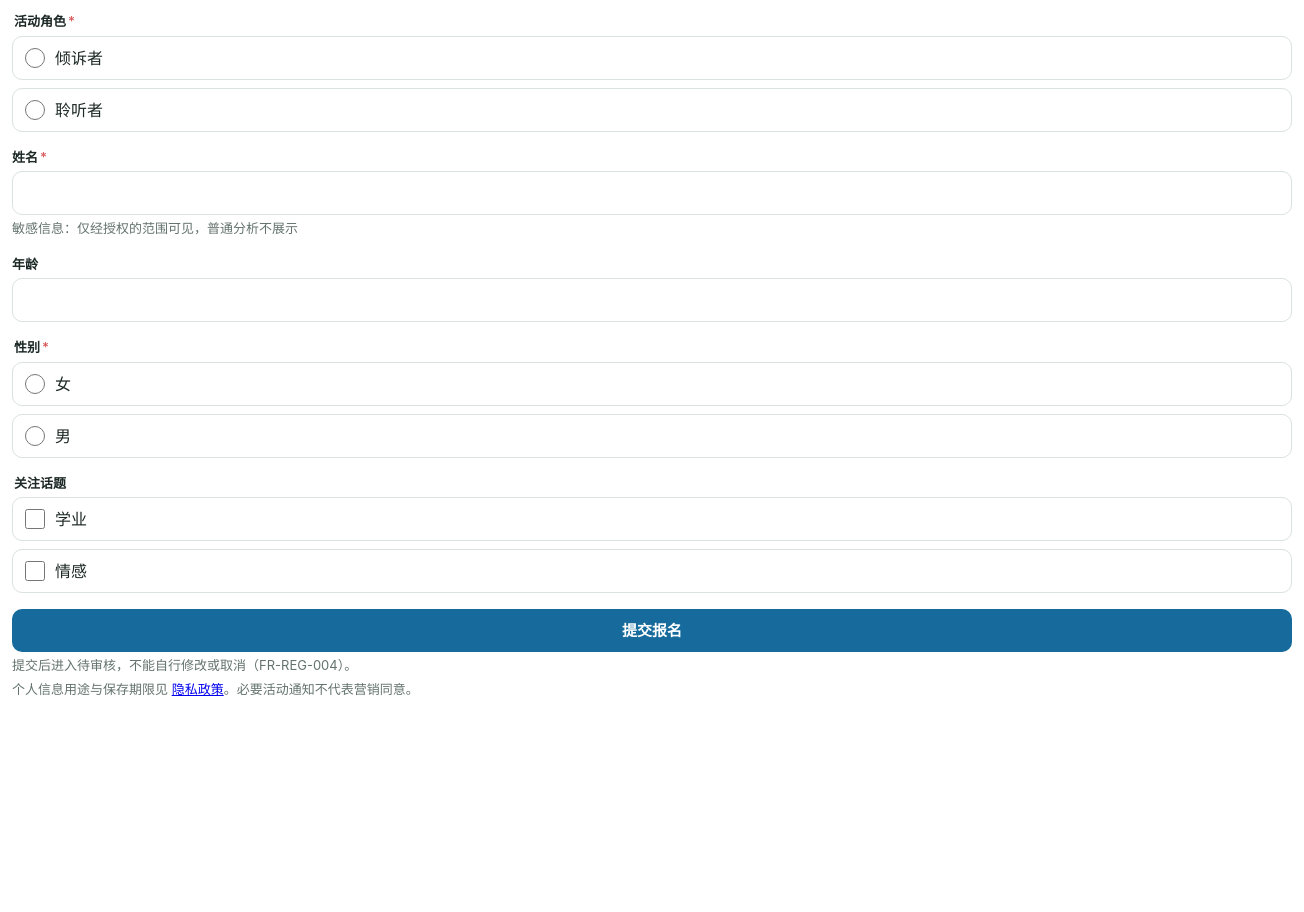
Scenario: RegistrationForm 报名表单 › 提交失败：展示服务端错误文案
The width and height of the screenshot is (1304, 912).
Click the radio button labelled "聆听者".
click(35, 110)  # box [25,100,45,120]
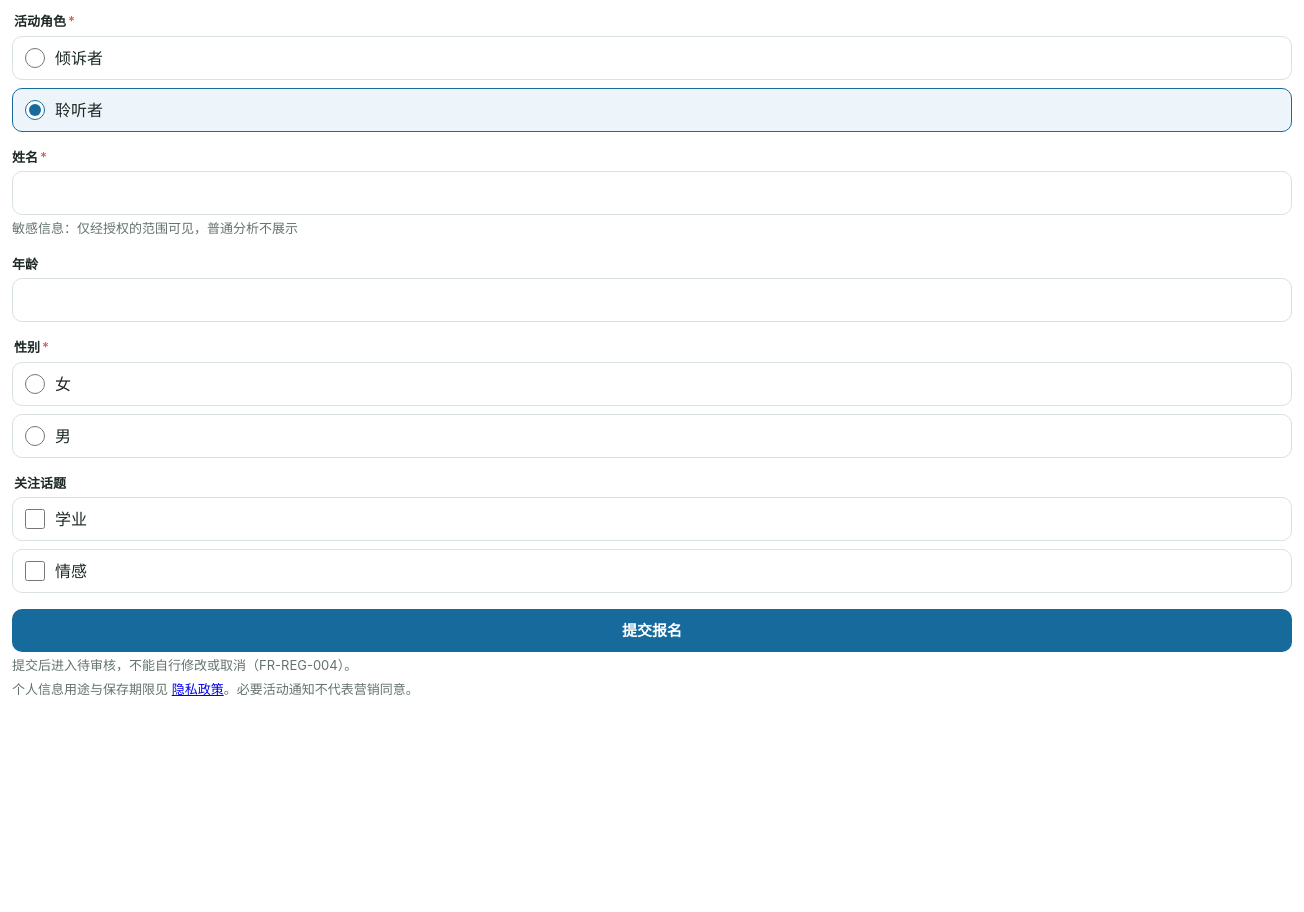
Type "张三" into the field labelled "姓名*".
click(652, 193); type("张三")  # box [12,171,1292,215]
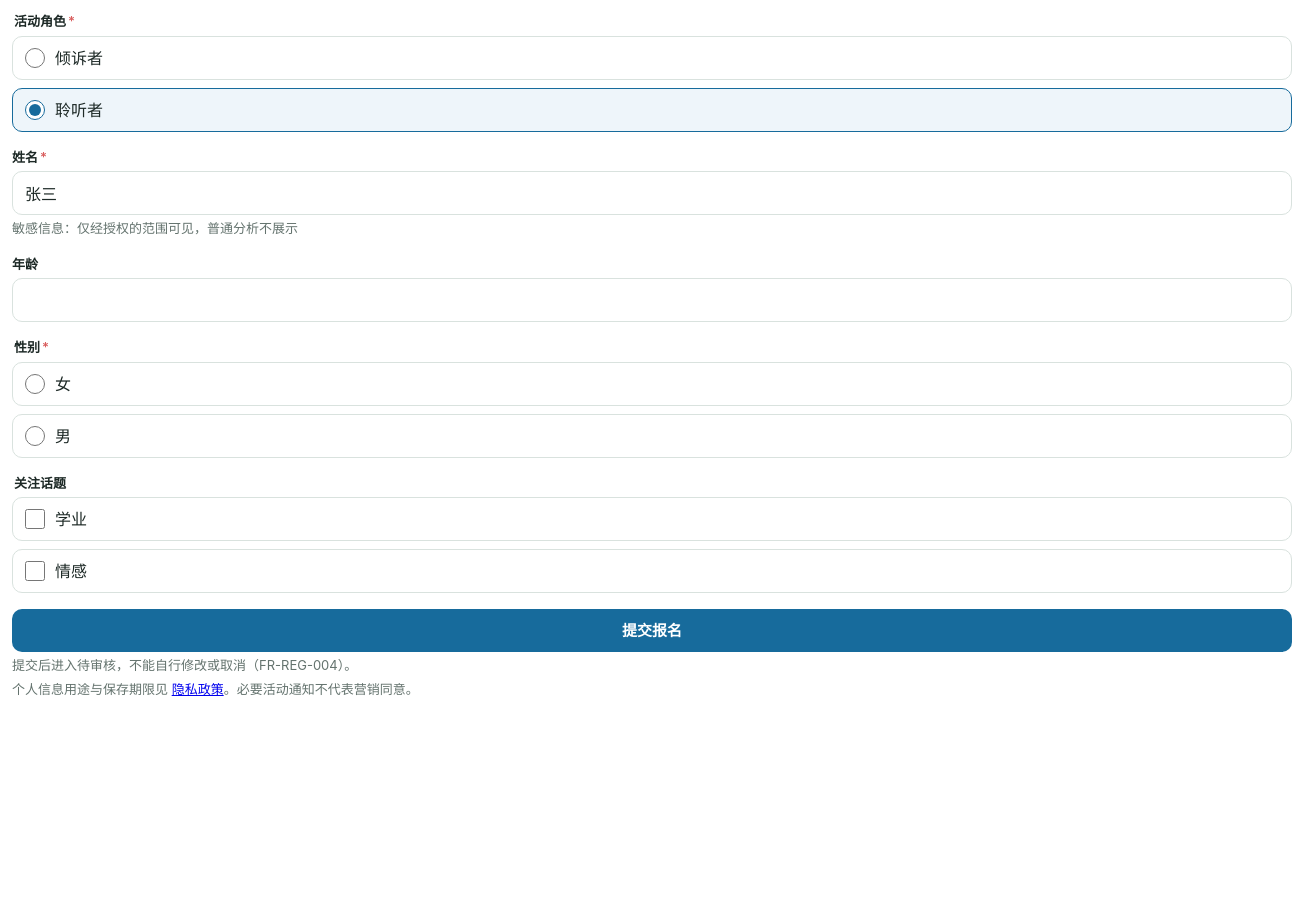
Click the radio button labelled "男".
click(35, 436)  # box [25,426,45,446]
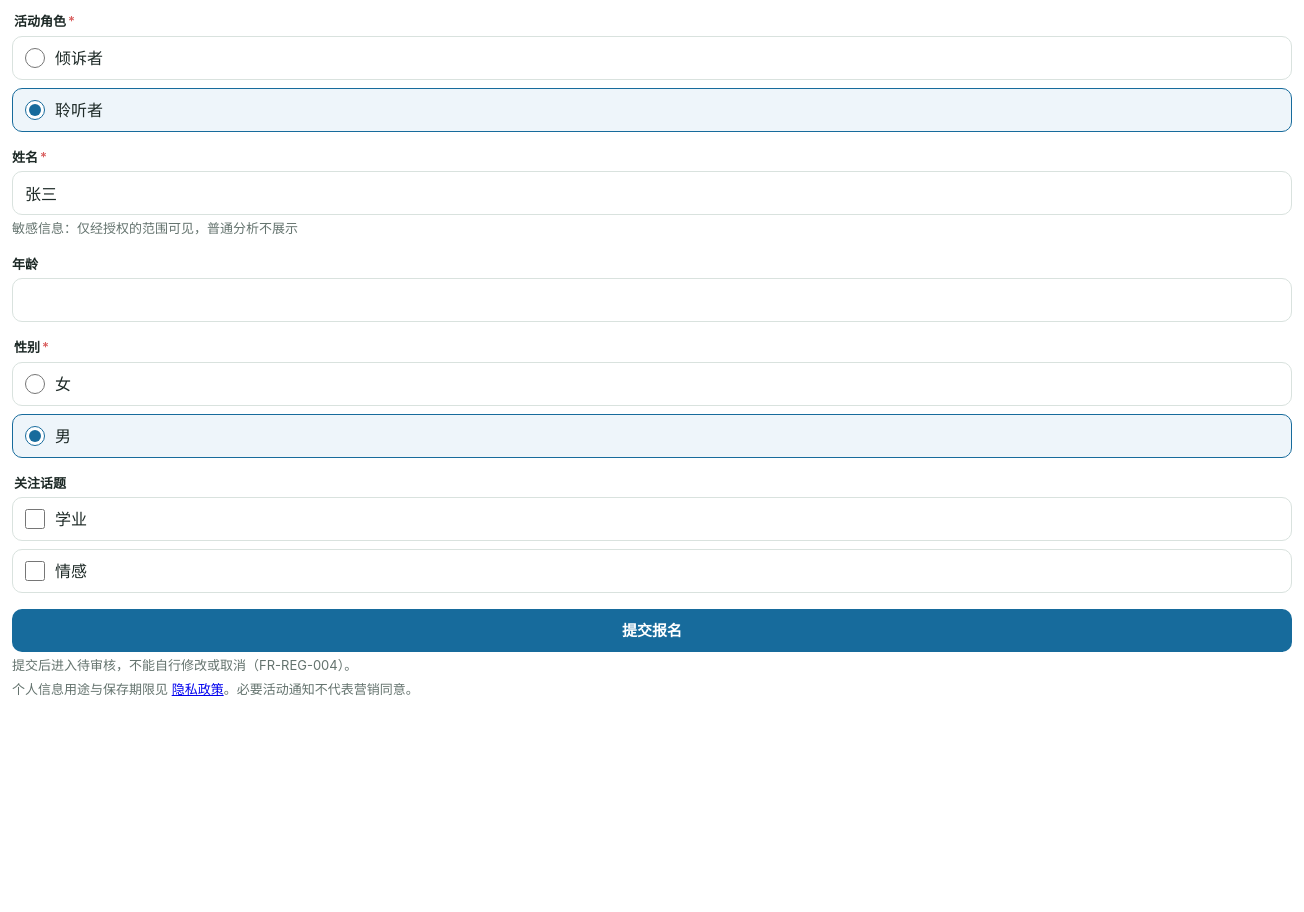
Click the button "提交报名".
click(652, 630)  # box [12,609,1292,652]
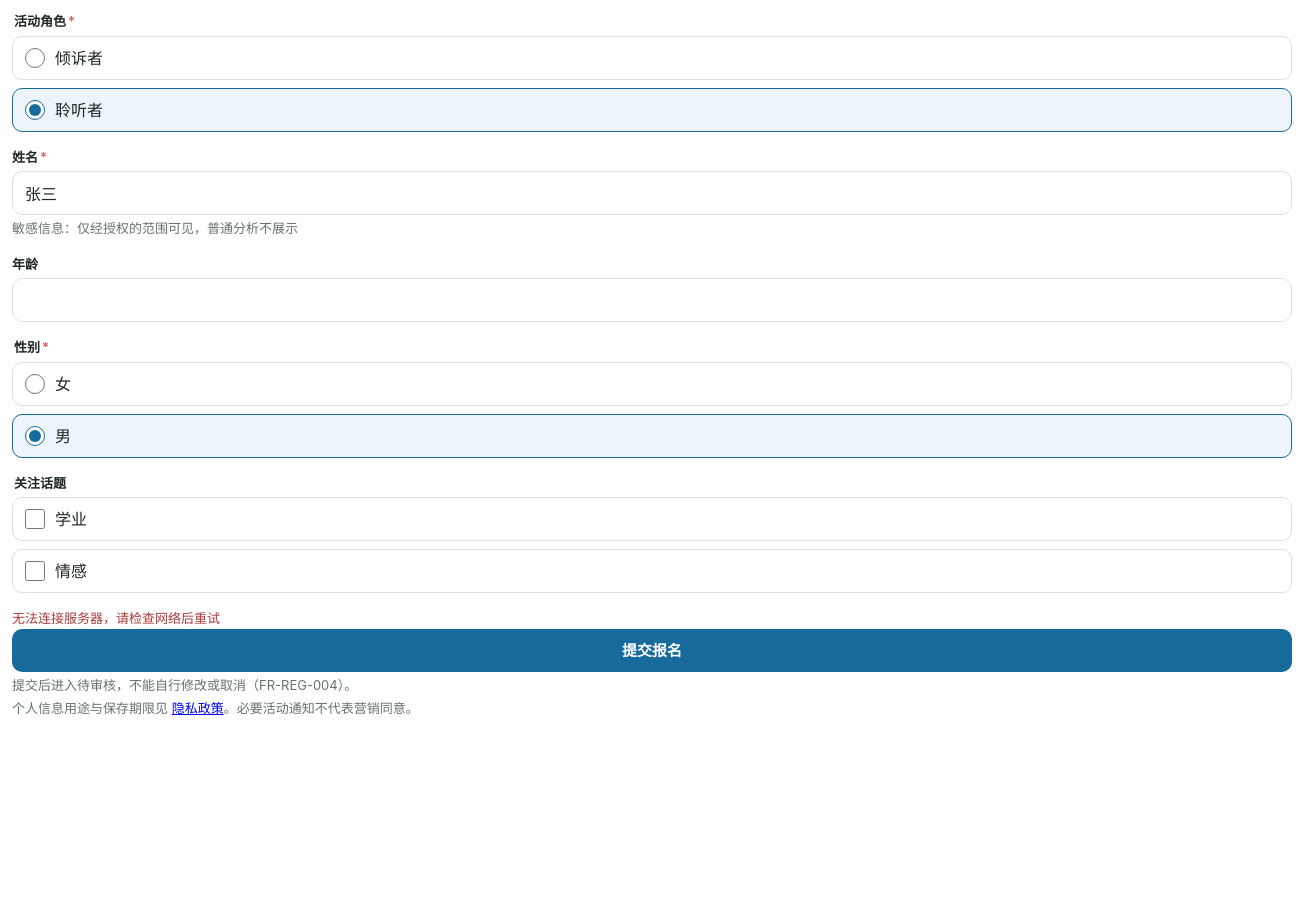
Check: the text "无法连接服务器，请检查网络后重试" is shown, box [12,610,220,626]
